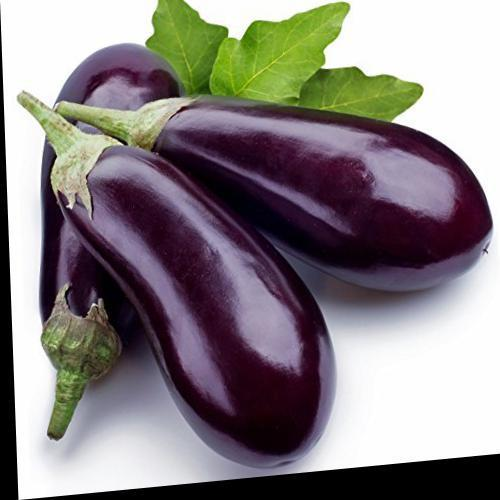eggplant: (38, 16, 434, 428)
